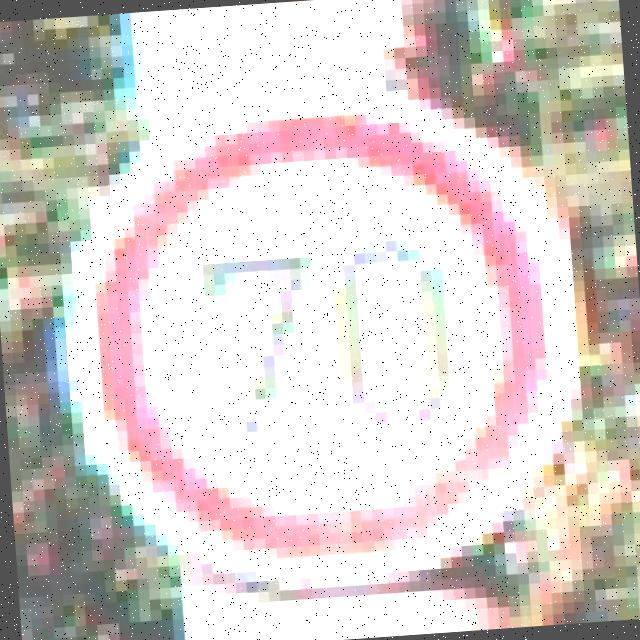Ograniczenie predkosci do 70: (91, 106, 554, 562)
